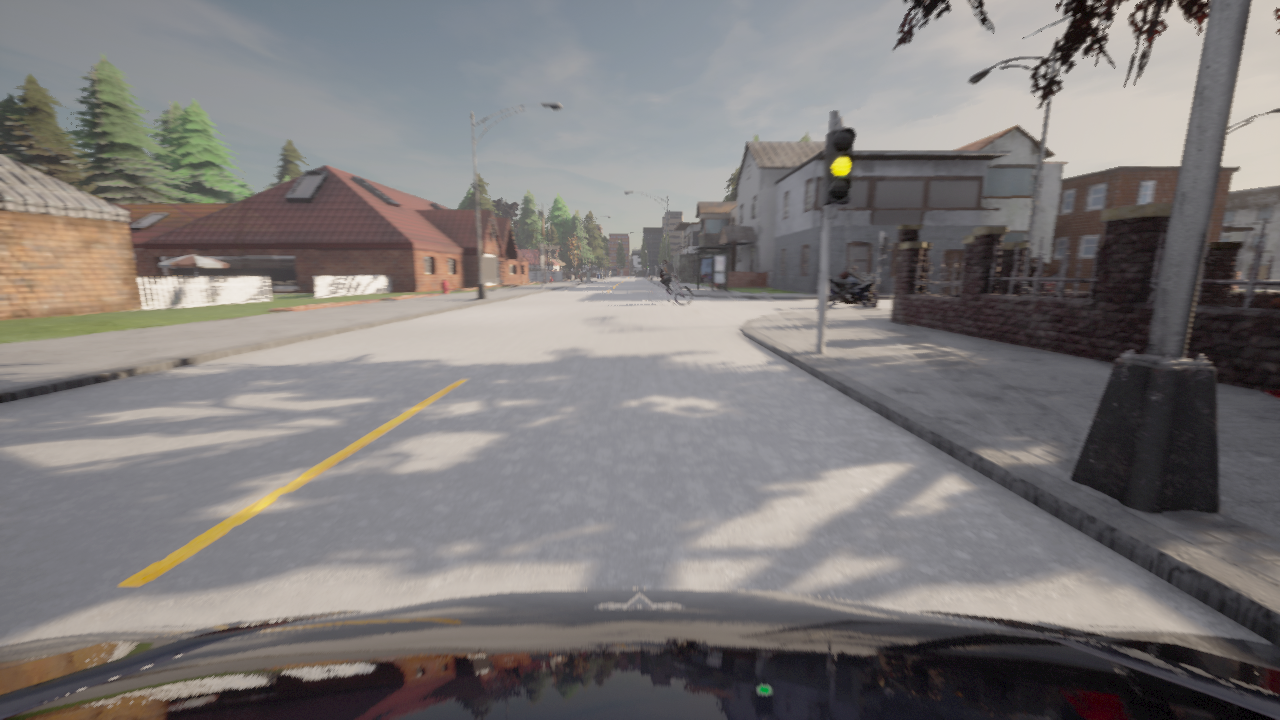cyclist: (0, 588, 1279, 719), (817, 273, 878, 307), (648, 279, 691, 304), (1025, 282, 1055, 291)
pedestrian: (1262, 295, 1279, 400), (931, 266, 932, 270)
